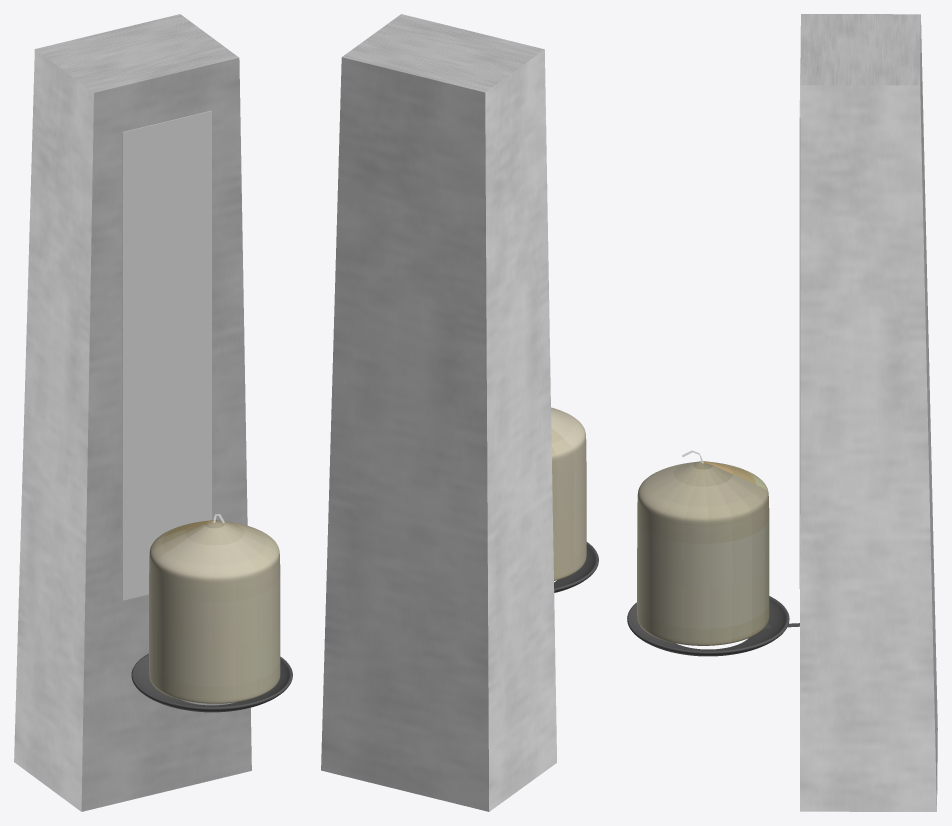
File: sweethome3d-contributions-candle-ornament.glb
The picture shows the model from 3 angles, left to right: view 1: azimuth 30°, elevation 25°; view 2: azimuth 150°, elevation 25°; view 3: azimuth 270°, elevation 25°; orthographic projection.
Parts seen in each view (by area): view 1: CandleOrnament_1, CandleOrnament_4, CandleOrnament_2, CandleOrnament_3; view 2: CandleOrnament_1, CandleOrnament_2, CandleOrnament_3; view 3: CandleOrnament_1, CandleOrnament_2, CandleOrnament_3, CandleOrnament_4.
Boxes of the visible parts, x1=… form: CandleOrnament_1: x1=14, y1=14, x2=251, y2=811; CandleOrnament_4: x1=122, y1=110, x2=211, y2=600; CandleOrnament_2: x1=149, y1=520, x2=280, y2=703; CandleOrnament_3: x1=131, y1=653, x2=292, y2=712; CandleOrnament_1: x1=321, y1=14, x2=556, y2=811; CandleOrnament_2: x1=551, y1=407, x2=586, y2=580; CandleOrnament_3: x1=554, y1=542, x2=598, y2=592; CandleOrnament_1: x1=800, y1=14, x2=937, y2=811; CandleOrnament_2: x1=637, y1=461, x2=769, y2=645; CandleOrnament_3: x1=627, y1=596, x2=789, y2=656; CandleOrnament_4: x1=799, y1=74, x2=800, y2=588.
Bounding box in the file's own units: 7.96 × 31.94 × 12.49.
Materials: 5 (2 with a texture image).
